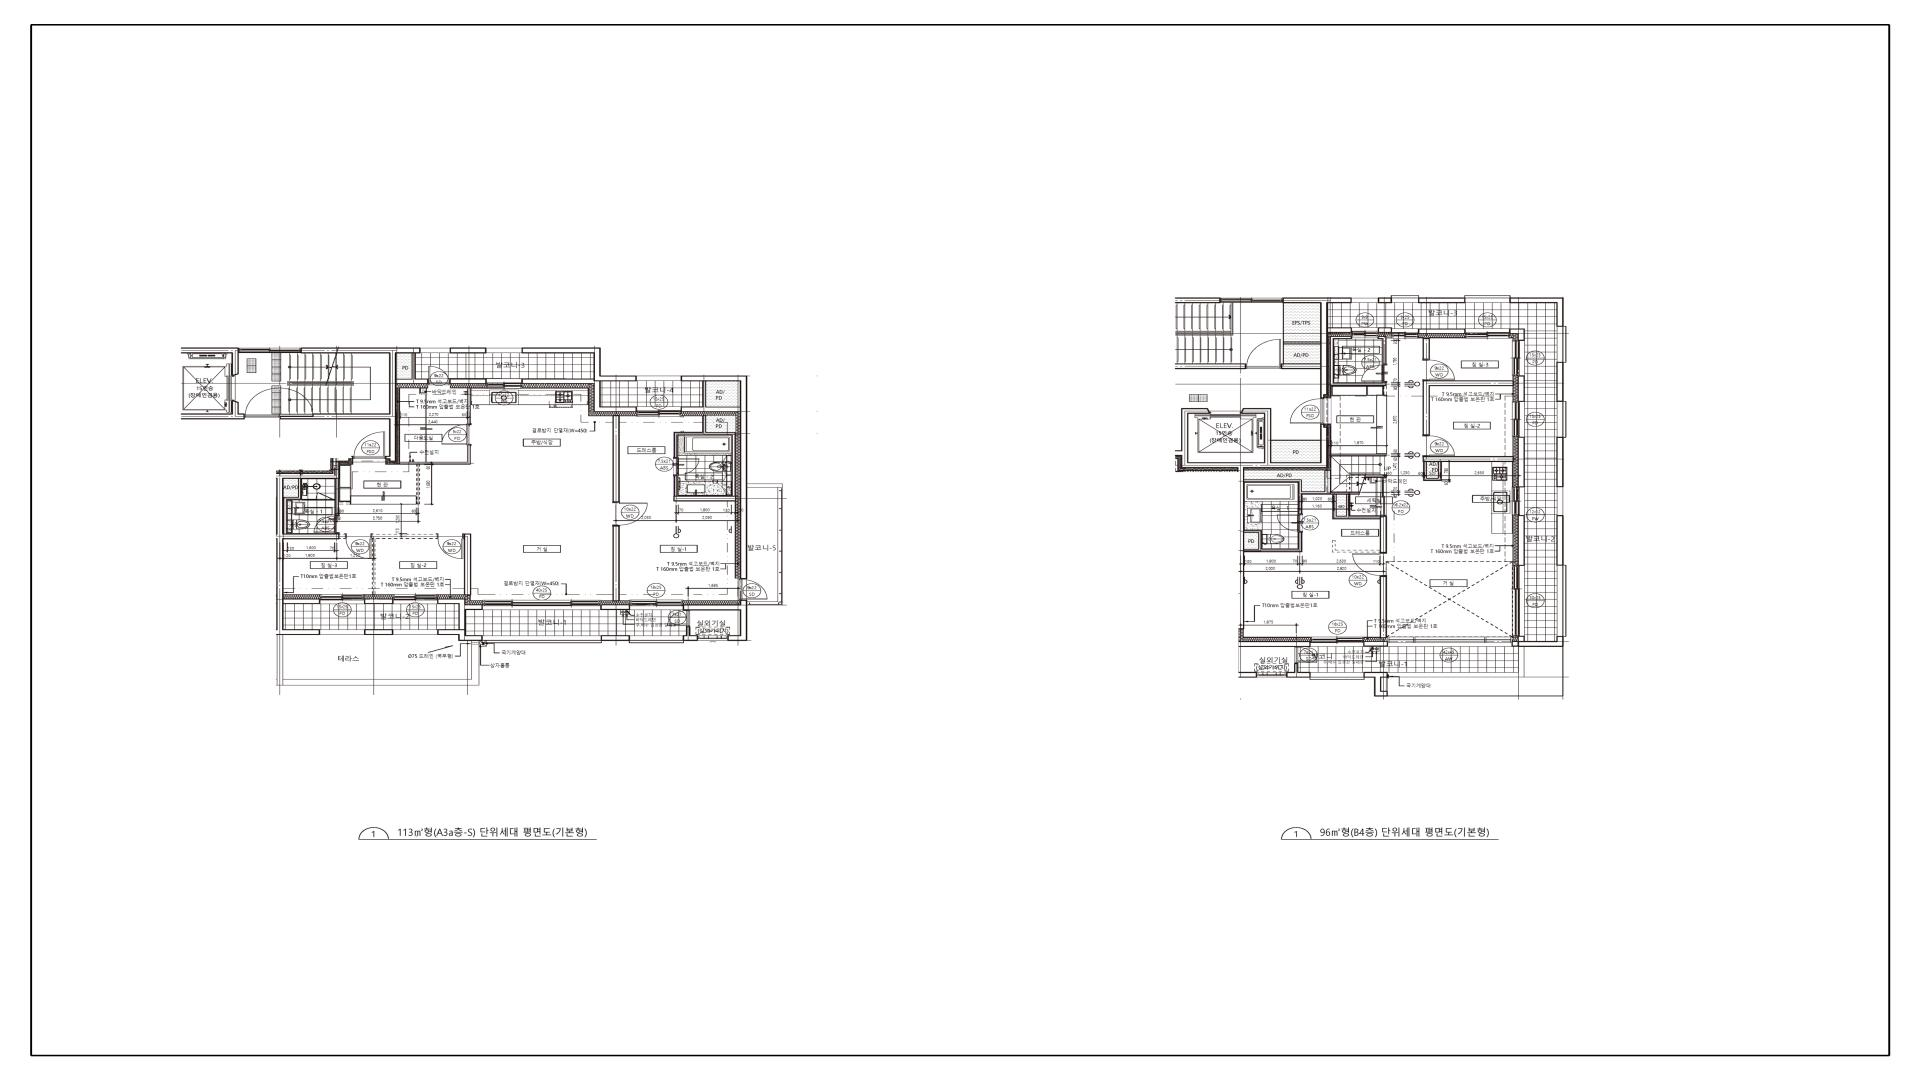door: (244, 388, 280, 419), (353, 431, 385, 459), (1290, 398, 1324, 423), (613, 502, 649, 526), (1353, 553, 1387, 575), (436, 534, 464, 559), (440, 423, 471, 446), (1423, 360, 1455, 381), (1423, 435, 1455, 456), (345, 534, 372, 559), (740, 579, 767, 600), (1276, 513, 1303, 533), (313, 516, 340, 534), (674, 458, 700, 476), (1361, 364, 1387, 382), (427, 365, 450, 385), (667, 611, 690, 626), (1381, 477, 1387, 516), (316, 492, 335, 501)
wall: (1175, 407, 1328, 629), (680, 376, 783, 641), (280, 347, 421, 462), (276, 456, 353, 636), (1245, 471, 1387, 553), (1282, 298, 1352, 398), (674, 415, 736, 501), (1423, 380, 1514, 435), (400, 444, 471, 505), (522, 378, 637, 413), (372, 534, 436, 595), (522, 348, 637, 381), (1331, 336, 1387, 386), (1238, 641, 1311, 678), (682, 381, 740, 413), (284, 479, 316, 534), (181, 348, 239, 376), (1511, 298, 1564, 326), (438, 599, 483, 629), (1245, 530, 1302, 553), (181, 400, 244, 419), (397, 353, 427, 384), (612, 526, 620, 601), (613, 415, 620, 502), (1364, 673, 1387, 696), (438, 629, 483, 641), (1379, 575, 1387, 638), (1423, 456, 1514, 462), (1519, 637, 1564, 647), (464, 534, 471, 596), (1556, 516, 1564, 566), (1423, 462, 1443, 481), (1556, 438, 1564, 487), (1175, 364, 1246, 369), (1286, 663, 1309, 678), (1518, 516, 1524, 566), (1518, 436, 1524, 487), (1175, 297, 1221, 303), (1556, 363, 1564, 401), (1378, 336, 1387, 364), (1419, 298, 1465, 303), (1419, 328, 1465, 334), (683, 626, 698, 641), (450, 348, 487, 353), (450, 378, 485, 384), (284, 599, 319, 604), (601, 604, 629, 611), (365, 629, 393, 636), (1510, 328, 1524, 340), (1518, 376, 1524, 401), (1364, 641, 1387, 647), (601, 636, 630, 641), (1332, 454, 1387, 456), (365, 599, 393, 604), (335, 479, 339, 516), (1513, 636, 1524, 647), (467, 388, 471, 423), (1423, 339, 1429, 360), (1328, 327, 1352, 332), (1378, 298, 1391, 303), (1378, 327, 1391, 332), (339, 534, 345, 539)
window: (1387, 647, 1524, 678), (1387, 637, 1513, 647), (483, 600, 601, 611), (483, 636, 601, 644), (1513, 566, 1524, 636), (1557, 564, 1567, 637), (629, 600, 683, 611), (1311, 637, 1364, 647), (1465, 328, 1510, 339), (637, 406, 682, 417), (1513, 401, 1524, 438), (1309, 673, 1364, 680), (319, 595, 365, 604), (1513, 340, 1524, 376), (630, 636, 683, 644), (393, 595, 438, 604), (239, 347, 301, 353), (485, 378, 522, 389), (1465, 295, 1511, 303), (1513, 487, 1524, 516), (1557, 401, 1567, 438), (1557, 326, 1567, 363), (1221, 298, 1283, 303), (320, 629, 365, 636), (393, 629, 438, 636), (1391, 328, 1419, 339), (1352, 327, 1378, 338), (637, 376, 680, 381), (1391, 295, 1419, 303), (487, 348, 522, 353), (698, 636, 728, 641), (1257, 673, 1286, 678), (1557, 487, 1563, 516), (421, 348, 450, 353), (1352, 298, 1378, 303)
